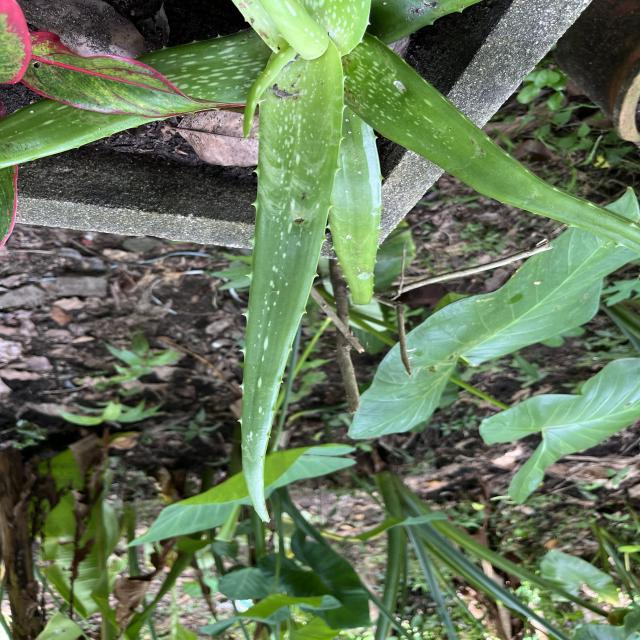Aloe vera: (232, 47, 354, 527)
